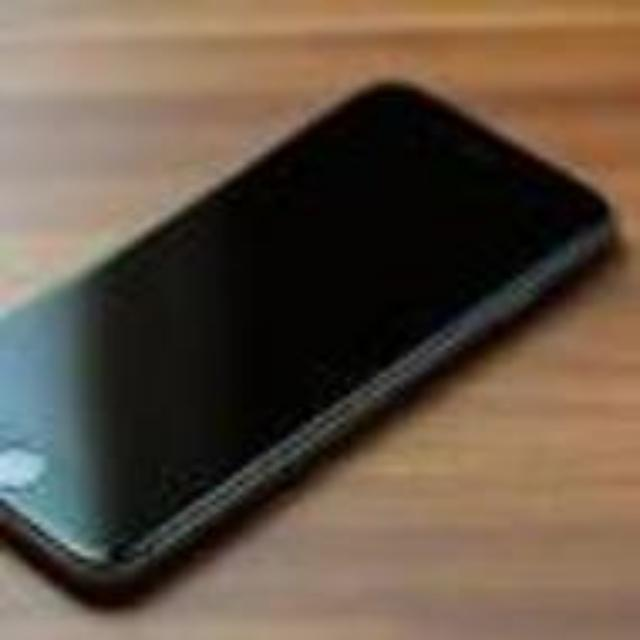phone: (0, 56, 640, 619)
